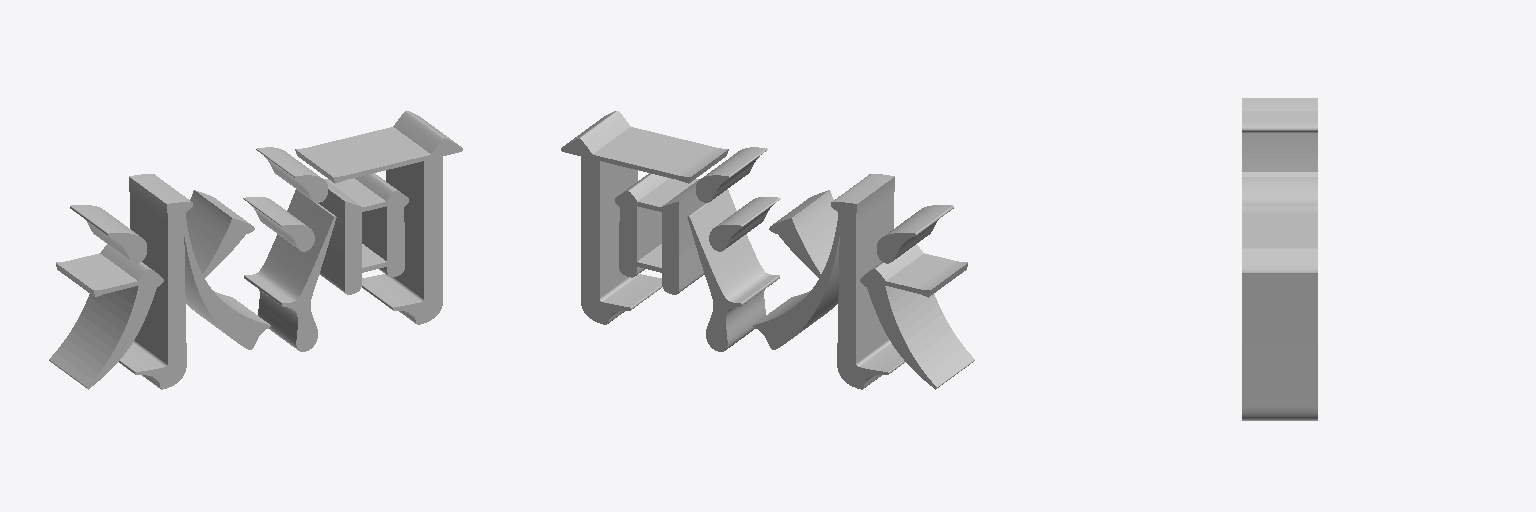
File: MainTitle.obj
The picture shows the model from 3 angles: view 1: azimuth 30°, elevation 25°; view 2: azimuth 150°, elevation 25°; view 3: azimuth 270°, elevation 25°; orthographic projection.
Visible parts, largest first — view 1: テキスト; view 2: テキスト; view 3: テキスト.
Boxes of the visible parts, x1,y1,x2,y2 form: テキスト: [49, 111, 462, 389]; テキスト: [561, 111, 974, 389]; テキスト: [1242, 98, 1317, 420].
Size of the model in its own units: 1.71 by 0.802 by 0.3011.